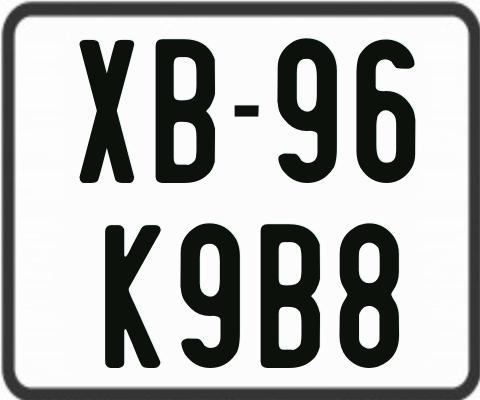6: (353, 40, 418, 186)
8: (339, 222, 400, 369)
9: (277, 38, 340, 187), (177, 222, 237, 368)
B: (260, 221, 325, 365), (156, 36, 220, 180)
K: (103, 225, 160, 372)
X: (77, 39, 137, 185)
